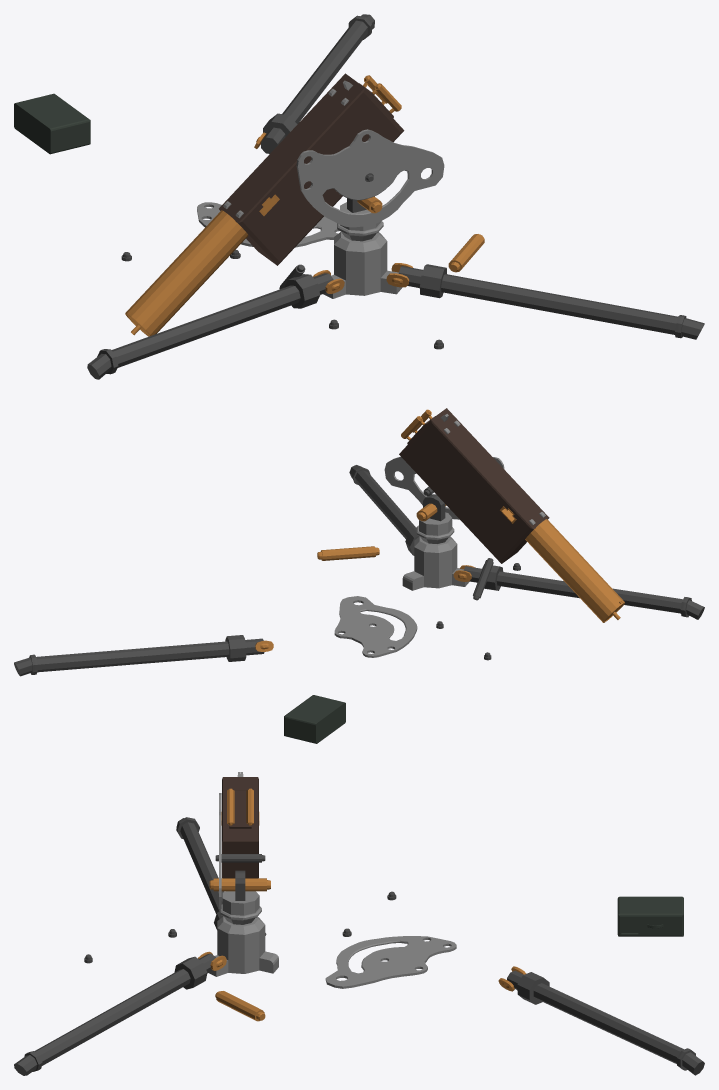
The model's file is Gulting_Gun_Destroyed.fbx.
The picture shows the model from 3 angles, top to bottom: view 1: azimuth 30°, elevation 25°; view 2: azimuth 150°, elevation 25°; view 3: azimuth 270°, elevation 25°; orthographic projection. The views are drawn at different scales.
Parts seen in each view (by area): view 1: Destroyed_Gulting_Gun_Merged; view 2: Destroyed_Gulting_Gun_Merged; view 3: Destroyed_Gulting_Gun_Merged.
Boxes of the visible parts, <box> form: Destroyed_Gulting_Gun_Merged: <box>14,14,704,379</box>; Destroyed_Gulting_Gun_Merged: <box>14,408,704,743</box>; Destroyed_Gulting_Gun_Merged: <box>14,772,704,1075</box>.
Size of the model in its own units: 251 by 95.25 by 294.
